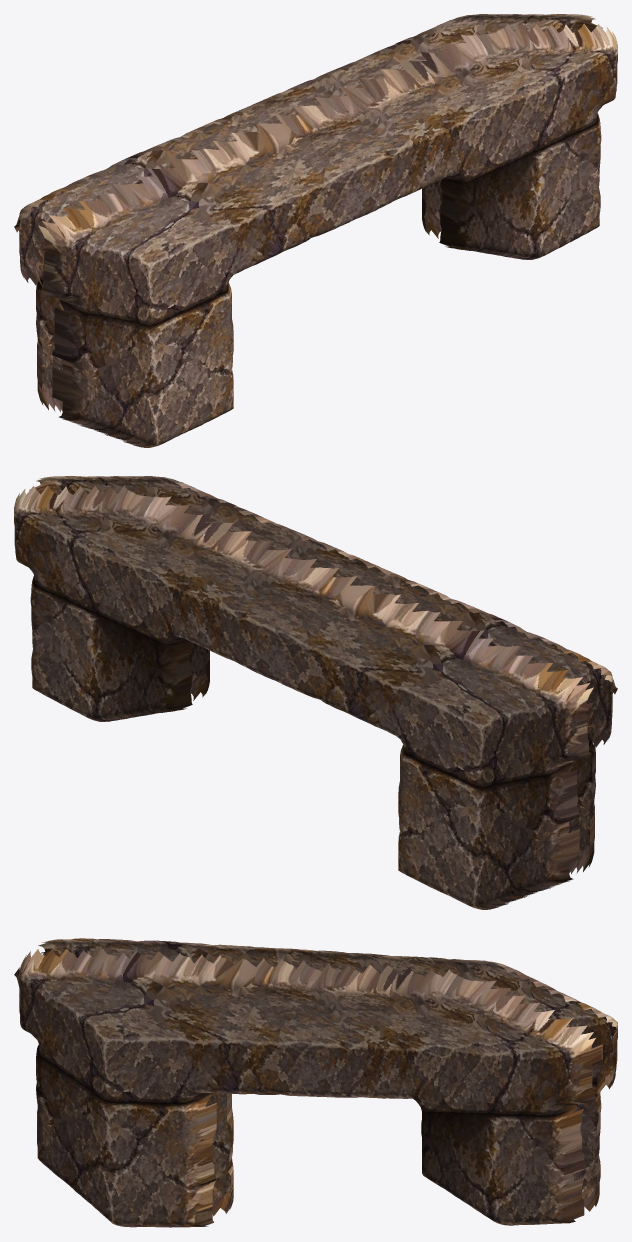
The model's file is v4-crypt-door-scatter-stone-bench.glb.
3 views of the same model, one above another, from view 1: azimuth 30°, elevation 25°; view 2: azimuth 150°, elevation 25°; view 3: azimuth 330°, elevation 25° (orthographic).
Visible parts, largest first — view 1: v4-crypt-door-scatter-stone-bench; view 2: v4-crypt-door-scatter-stone-bench; view 3: v4-crypt-door-scatter-stone-bench.
Part boxes in pixels (x1,y1,x2,y2): v4-crypt-door-scatter-stone-bench: [14, 14, 617, 447]; v4-crypt-door-scatter-stone-bench: [14, 476, 617, 909]; v4-crypt-door-scatter-stone-bench: [14, 938, 617, 1227].
Bounding box in the file's own units: 0.8206 × 0.4497 × 0.1104.
Materials: 1 (1 with a texture image).
